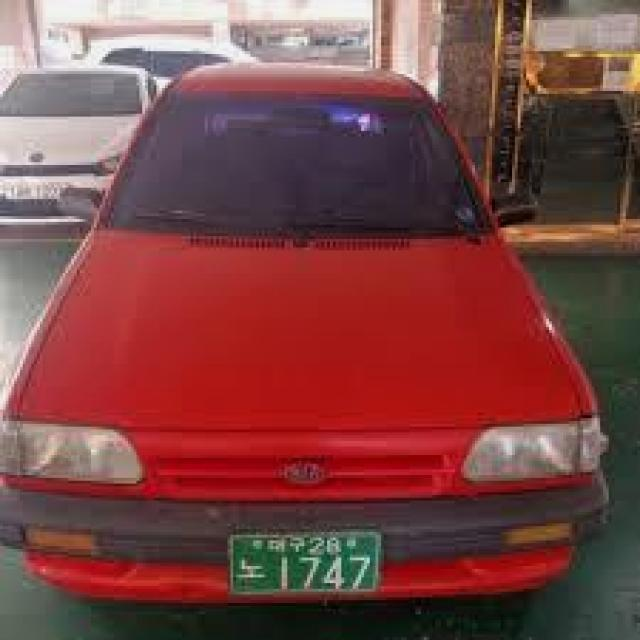car: (0, 57, 625, 613)
illegal_plate: (216, 527, 393, 601)
